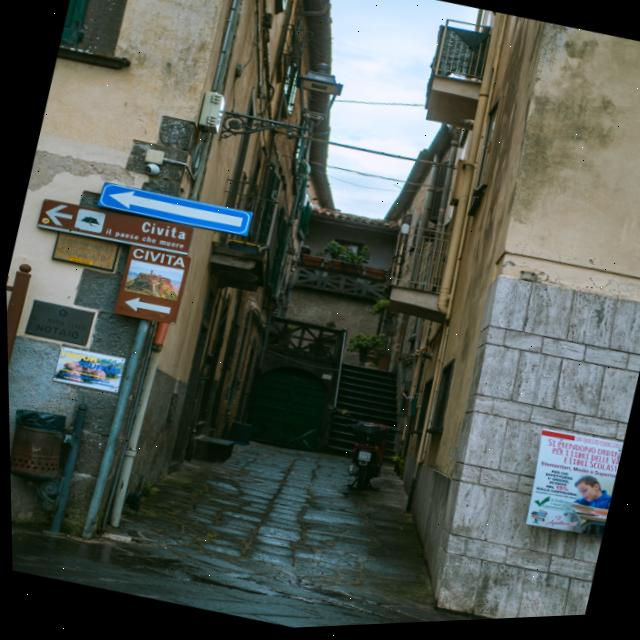building: (0, 0, 365, 577), (313, 0, 640, 626), (244, 195, 445, 468)
